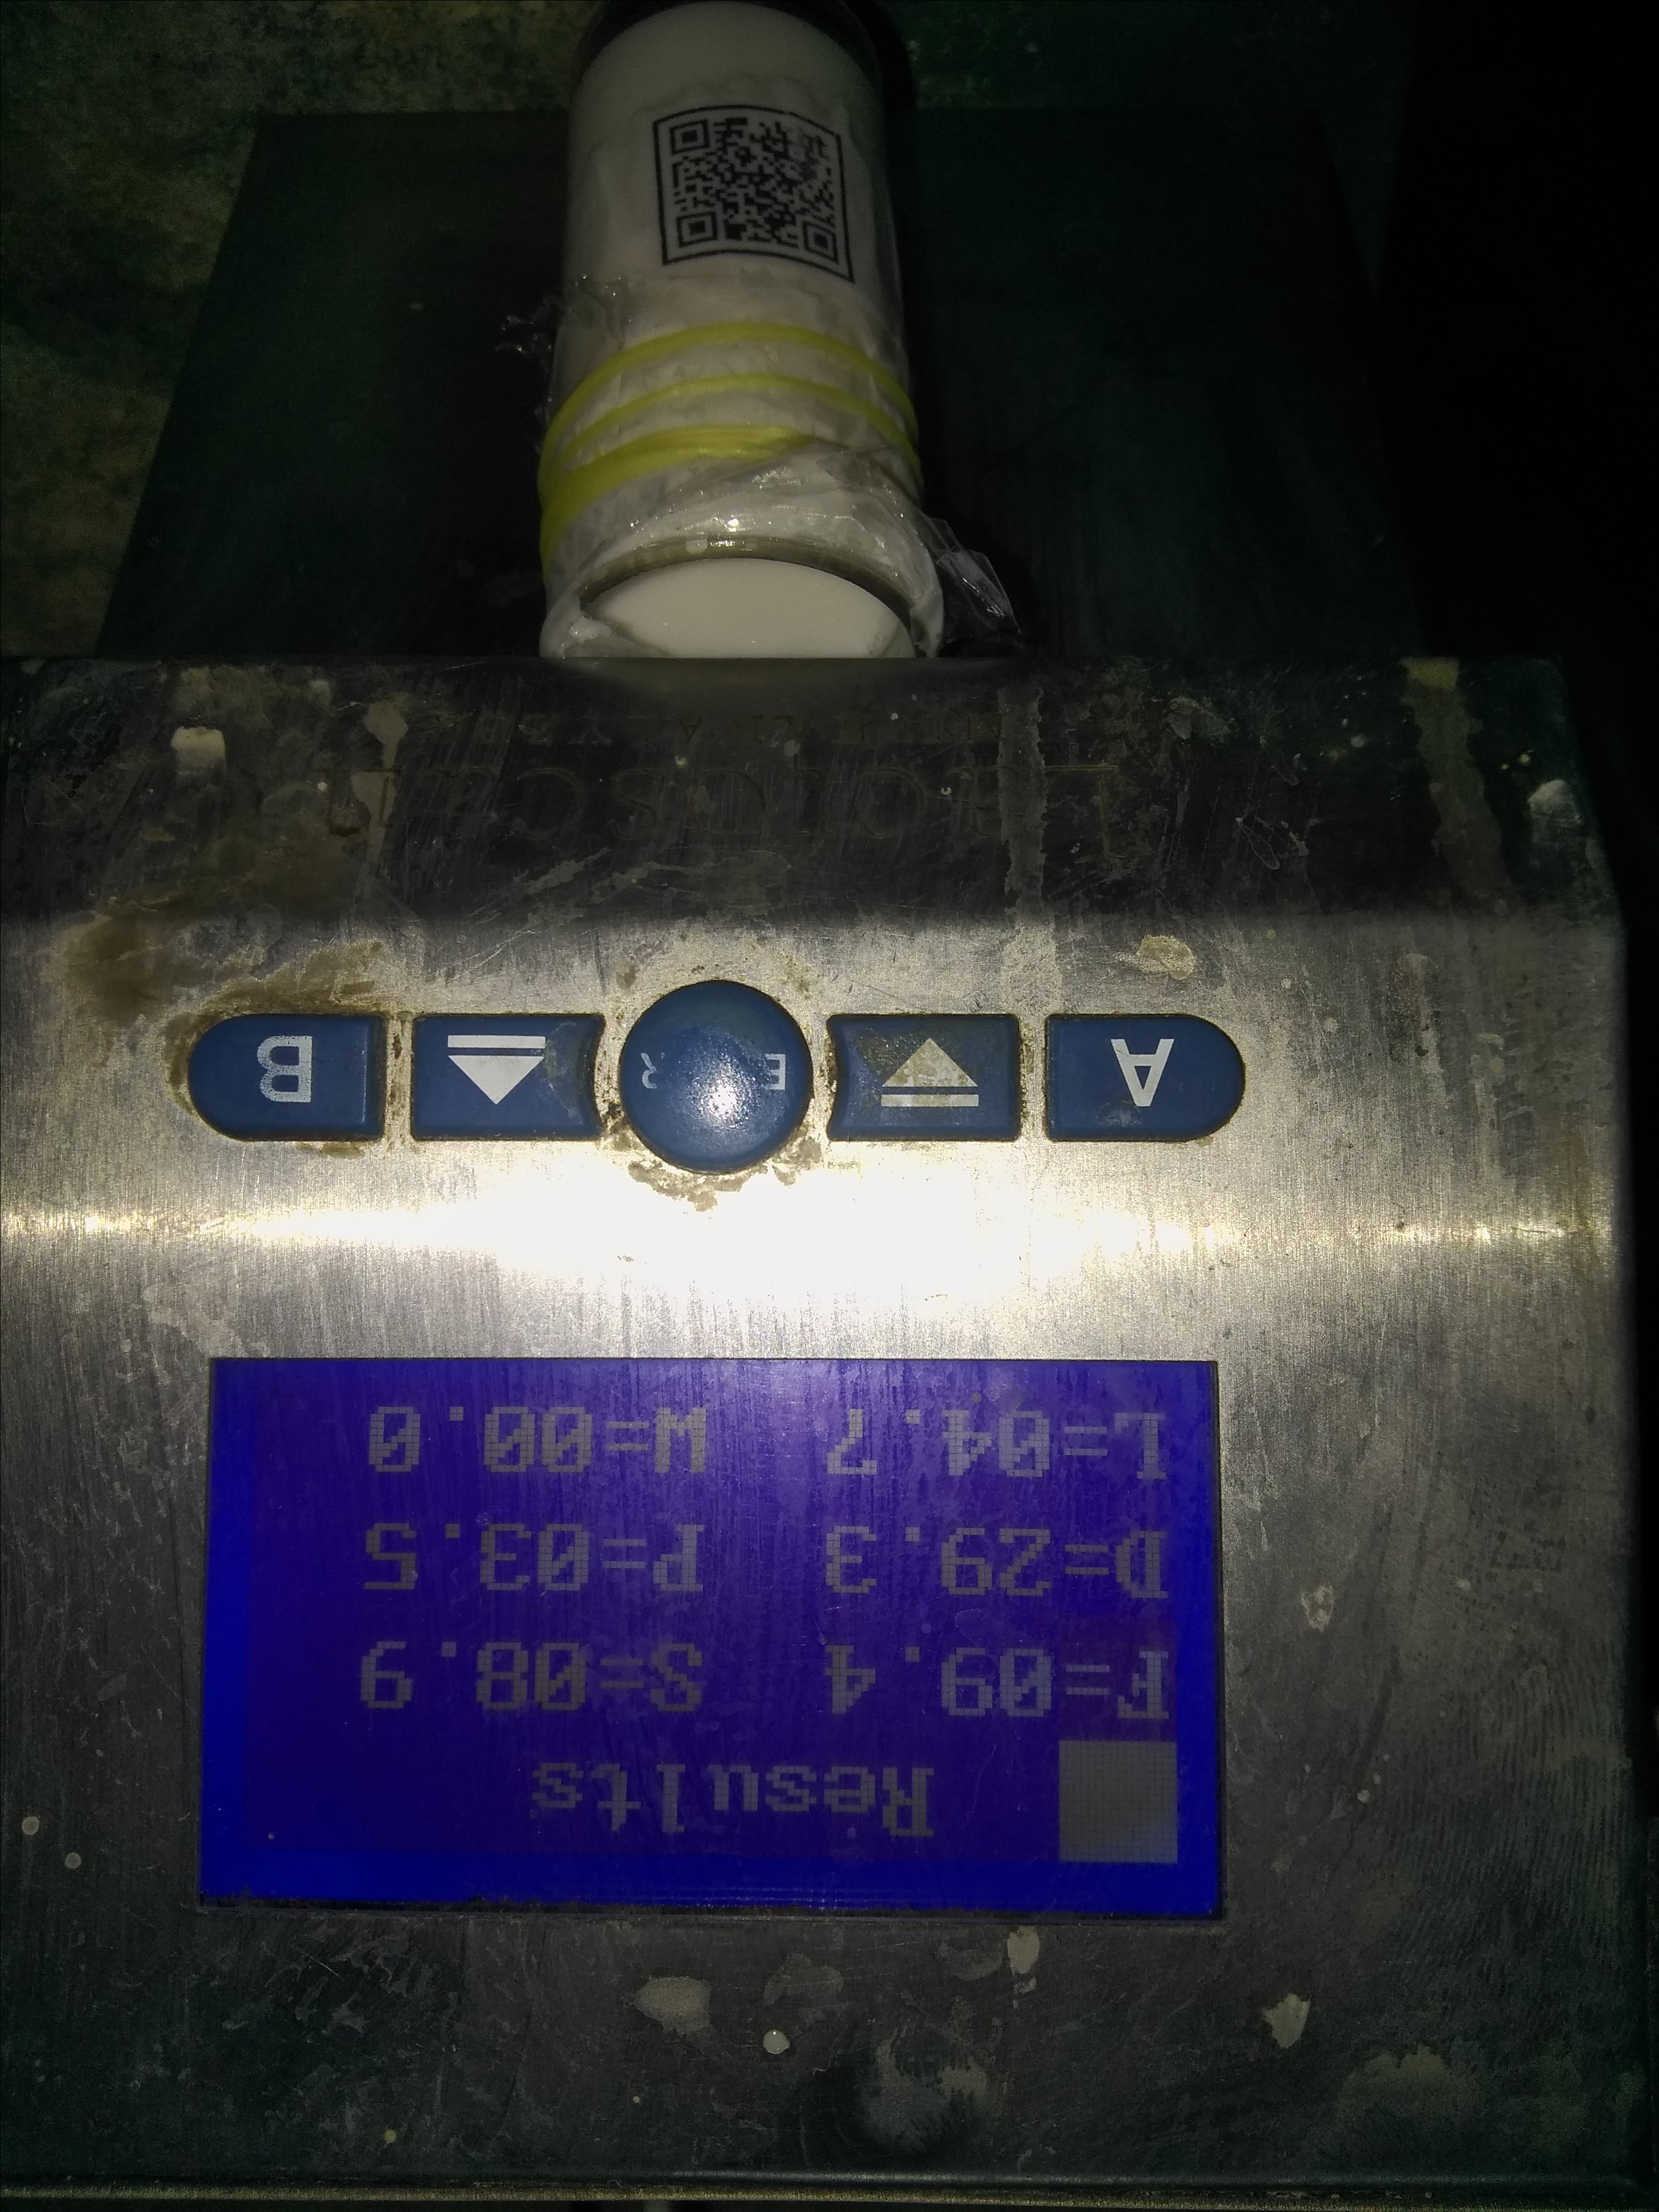lcd: (186, 1312, 1249, 1968)
qr: (640, 85, 859, 298)
